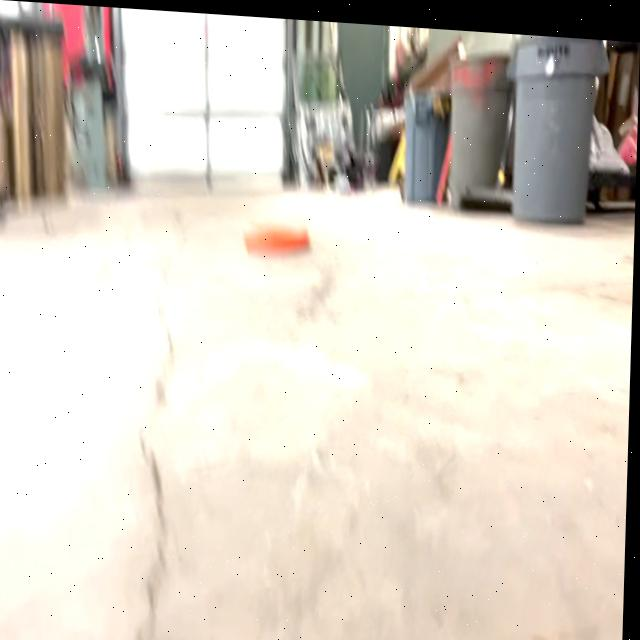note: (248, 214, 312, 256)
